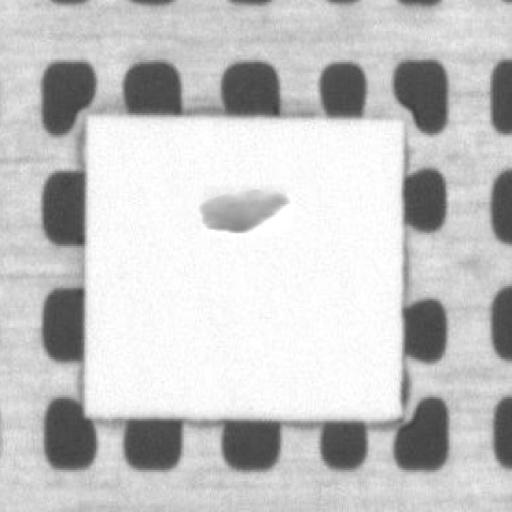DIE_INK: (195, 182, 287, 239)
